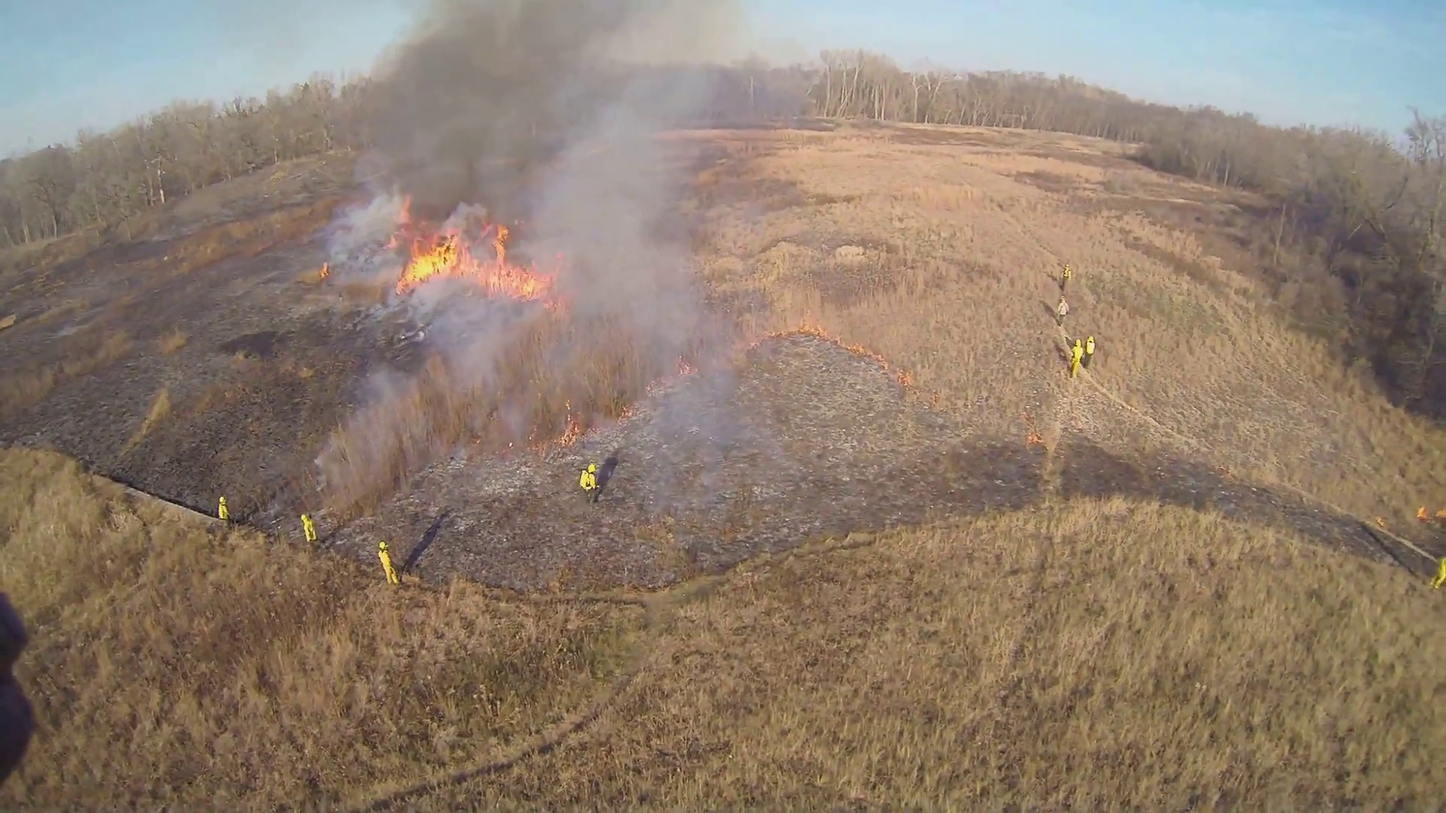forest_fire: (395, 224, 551, 300)
